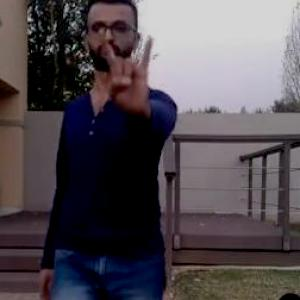takeoff-hand: (99, 30, 159, 116)
